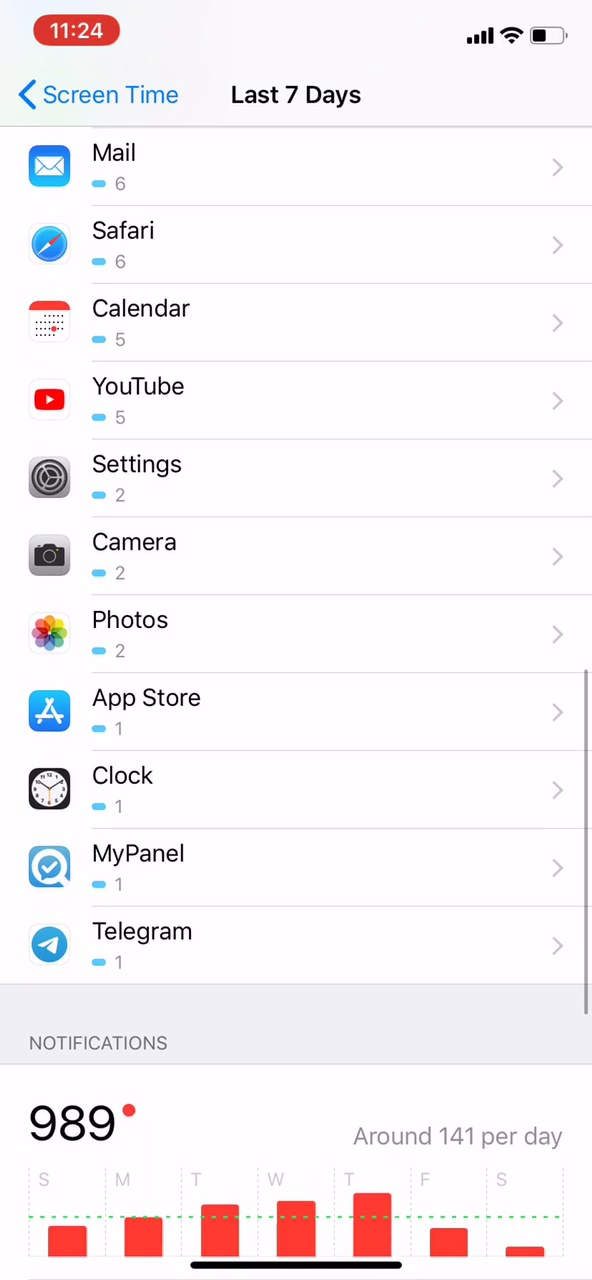not_over: (14, 1014, 198, 1153)
pick_app: (17, 361, 212, 435), (14, 911, 231, 974), (12, 447, 218, 511), (11, 603, 217, 667), (15, 839, 231, 899), (12, 524, 214, 588), (9, 291, 215, 352), (14, 758, 198, 822), (12, 685, 215, 742), (12, 208, 184, 272), (18, 136, 172, 199)
week: (221, 73, 374, 111)
